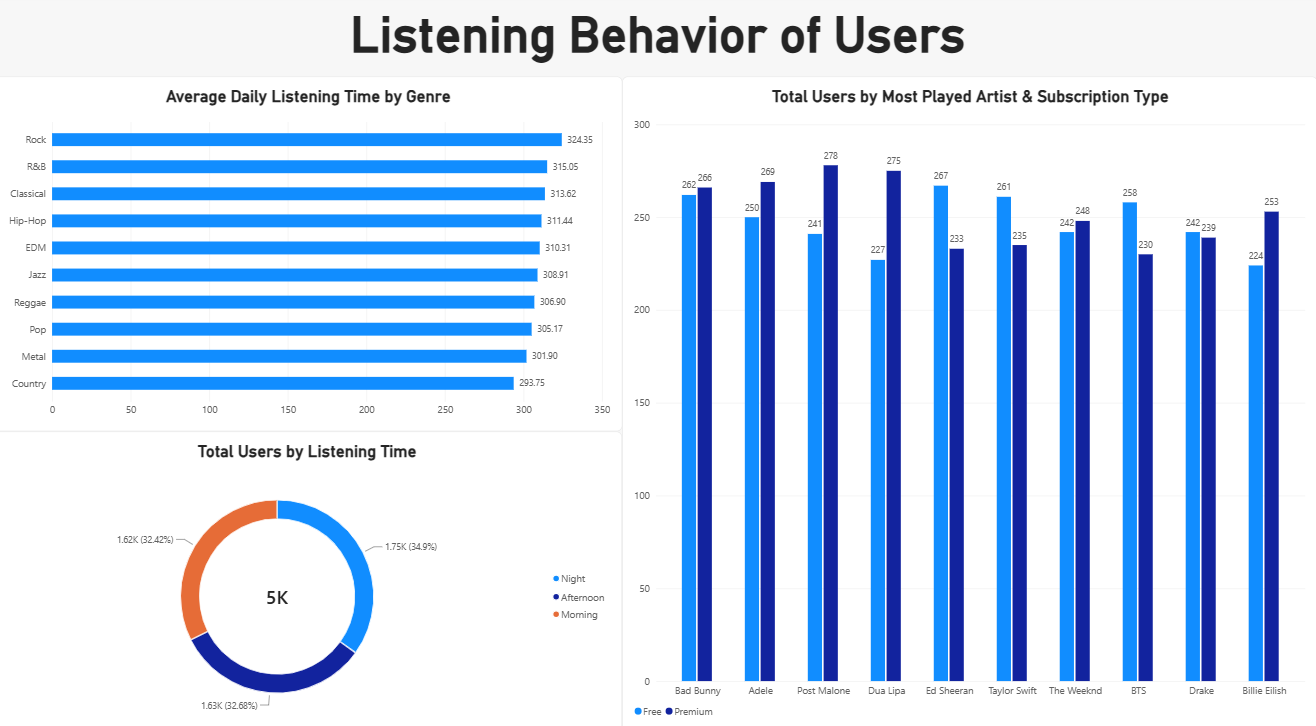

This screenshot's page, from the dashboard's own definition file:
{"tool":"powerbi","page":{"name":"Listening Behavior of Users","canvas":[1920,1080],"ordinal":2},"visuals":[{"type":"textbox","box":[10.9,16.3,1909.2,103.2],"z":0},{"type":"barChart","title":"Average Daily Listening Time by Genre","fields":{"Category":["Global_Music_Streaming_Listener_Preferences.Top Genre"],"Y":["Avg(Global_Music_Streaming_Listener_Preferences.Minutes Streamed Per Day)"]},"box":[3.6,119.4,910.3,513.9],"z":1000},{"type":"donutChart","title":"Total Users by Listening Time","fields":{"Category":["Global_Music_Streaming_Listener_Preferences.Listening Time (Morning/Afternoon/Night)"],"Y":["CountNonNull(Global_Music_Streaming_Listener_Preferences.User_ID)"]},"box":[0,633.4,913.9,436.1],"z":2000},{"type":"clusteredColumnChart","title":"Total Users by Most Played Artist & Subscription Type","fields":{"Category":["Global_Music_Streaming_Listener_Preferences.Most Played Artist"],"Y":["CountNonNull(Global_Music_Streaming_Listener_Preferences.User_ID)"],"Series":["Global_Music_Streaming_Listener_Preferences.Subscription Type"]},"box":[913.9,119.4,1006.2,950.1],"z":3000}]}

Visuals, with their boxes in screenshot pixels (x1, y1, x2, y2), scaled from the page's 1920x1080 canvas onto the 1316x726 screenshot:
textbox: region(7, 11, 1315, 80)
"Average Daily Listening Time by Genre" barChart: region(2, 80, 626, 426)
"Total Users by Listening Time" donutChart: region(0, 426, 626, 719)
"Total Users by Most Played Artist & Subscription Type" clusteredColumnChart: region(626, 80, 1315, 719)
